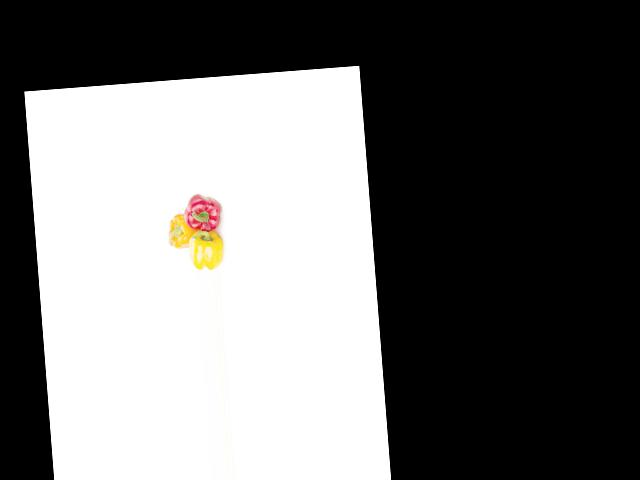bell_pepper: (187, 230, 228, 271)
